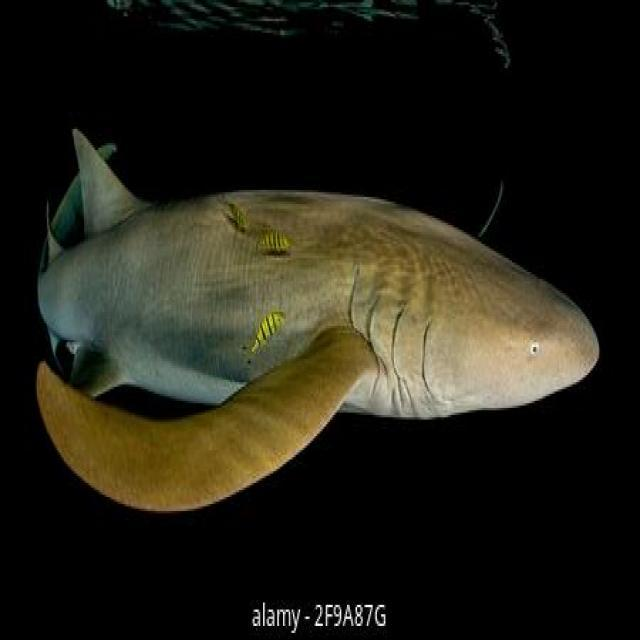Shark: (28, 112, 600, 526)
